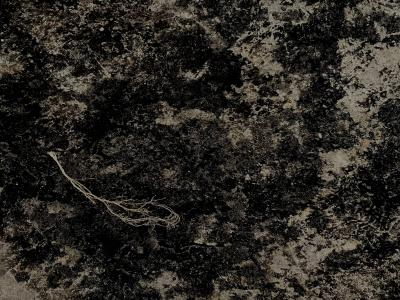Root: (47, 152, 98, 204)
